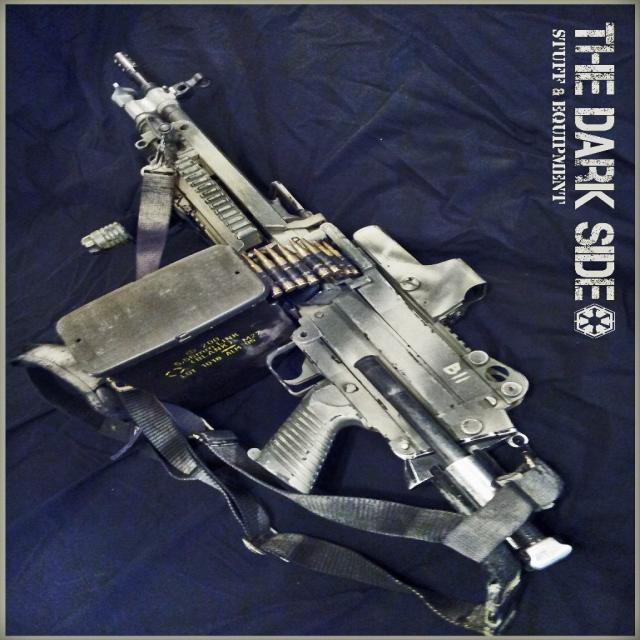firearm: (58, 54, 565, 568)
